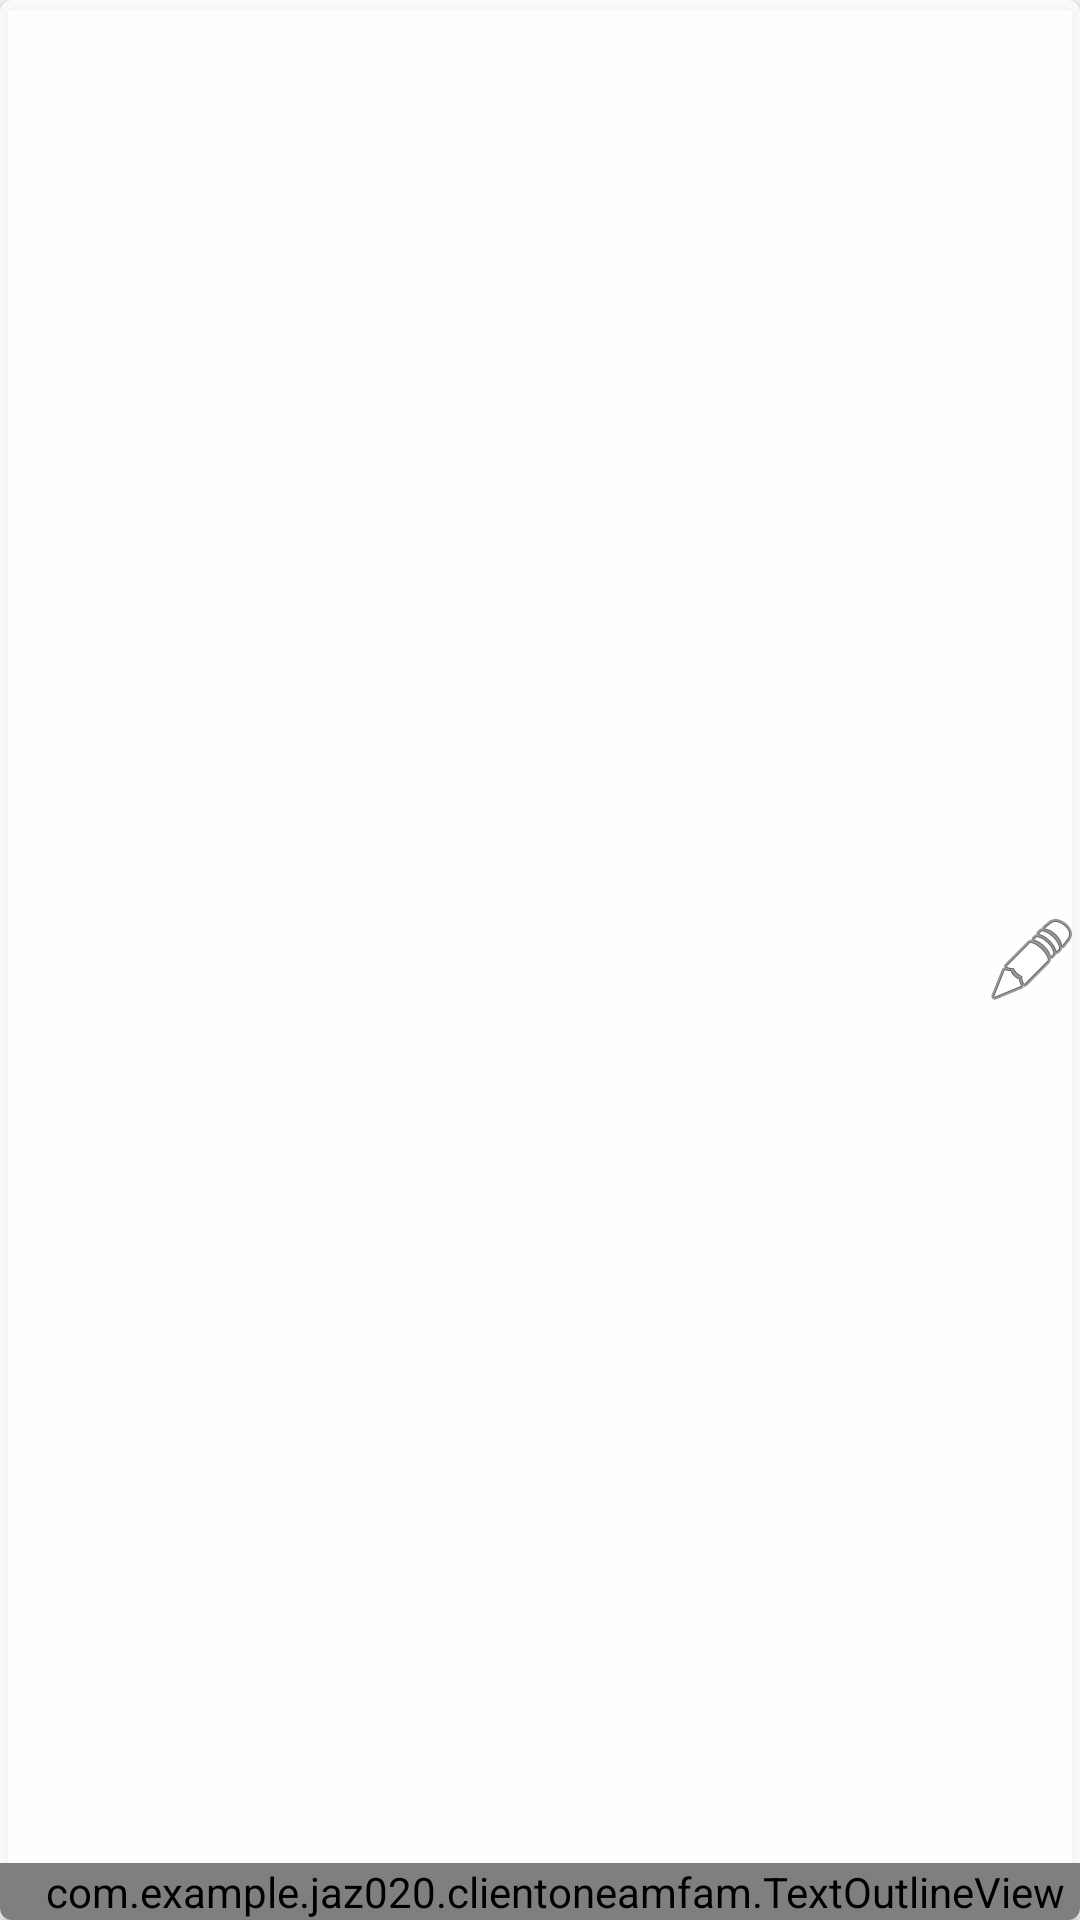

Named icons in this screenshot (1080x1920) and their bounding boxes, bbox(x1, y1, x2, y2):
Edit Card: bbox(991, 919, 1072, 1000)
